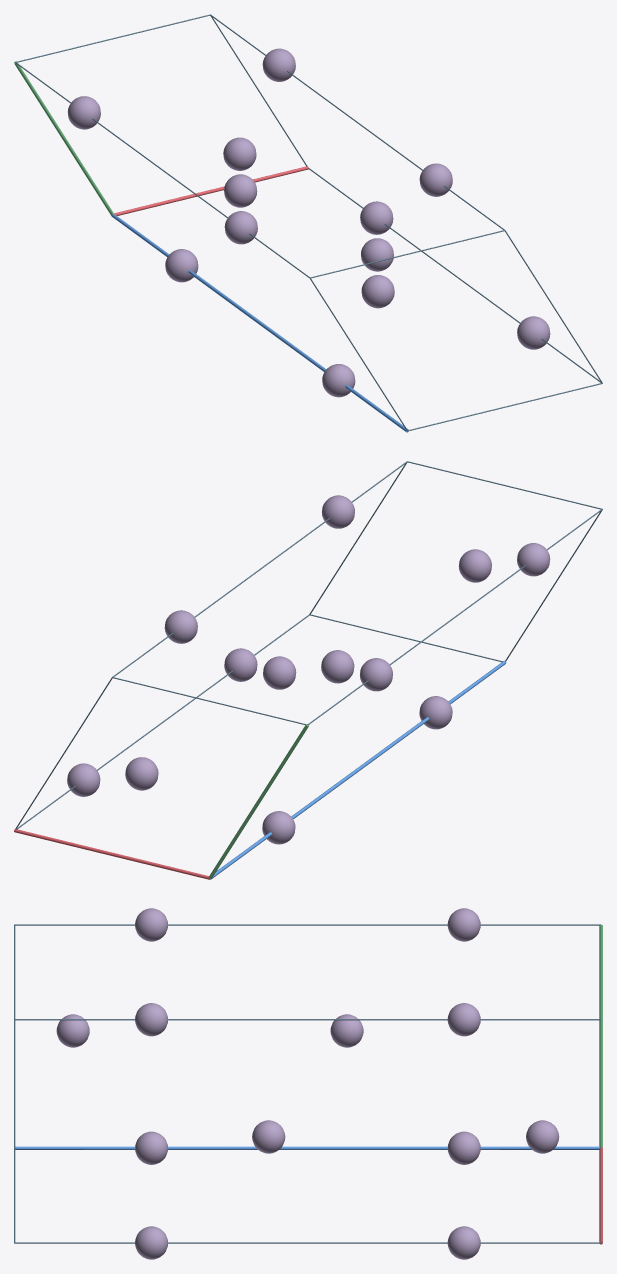
File: nguyen-to-sb.glb
3 views of the same model, one above another, from view 1: azimuth 30°, elevation 25°; view 2: azimuth 150°, elevation 25°; view 3: azimuth 270°, elevation 25° (orthographic).
Parts seen in each view (by area): view 1: Sb · Sb · 1 (×12), Ô mạng và các trục a, b, c; view 2: Sb · Sb · 1 (×12), Ô mạng và các trục a, b, c; view 3: Sb · Sb · 1 (×12), Ô mạng và các trục a, b, c.
Part boxes in pixels (x1=…): Sb · Sb · 1 (×12): x1=67, y1=48, x2=550, y2=397; Ô mạng và các trục a, b, c: x1=14, y1=14, x2=602, y2=432; Sb · Sb · 1 (×12): x1=67, y1=495, x2=550, y2=844; Ô mạng và các trục a, b, c: x1=14, y1=461, x2=602, y2=879; Sb · Sb · 1 (×12): x1=56, y1=908, x2=559, y2=1259; Ô mạng và các trục a, b, c: x1=14, y1=924, x2=602, y2=1244.
Size of the model in its own units: 7.1 by 4.37 by 11.32.
